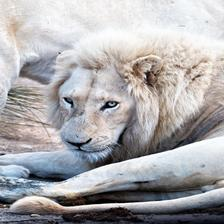Lion: (47, 30, 224, 224)
